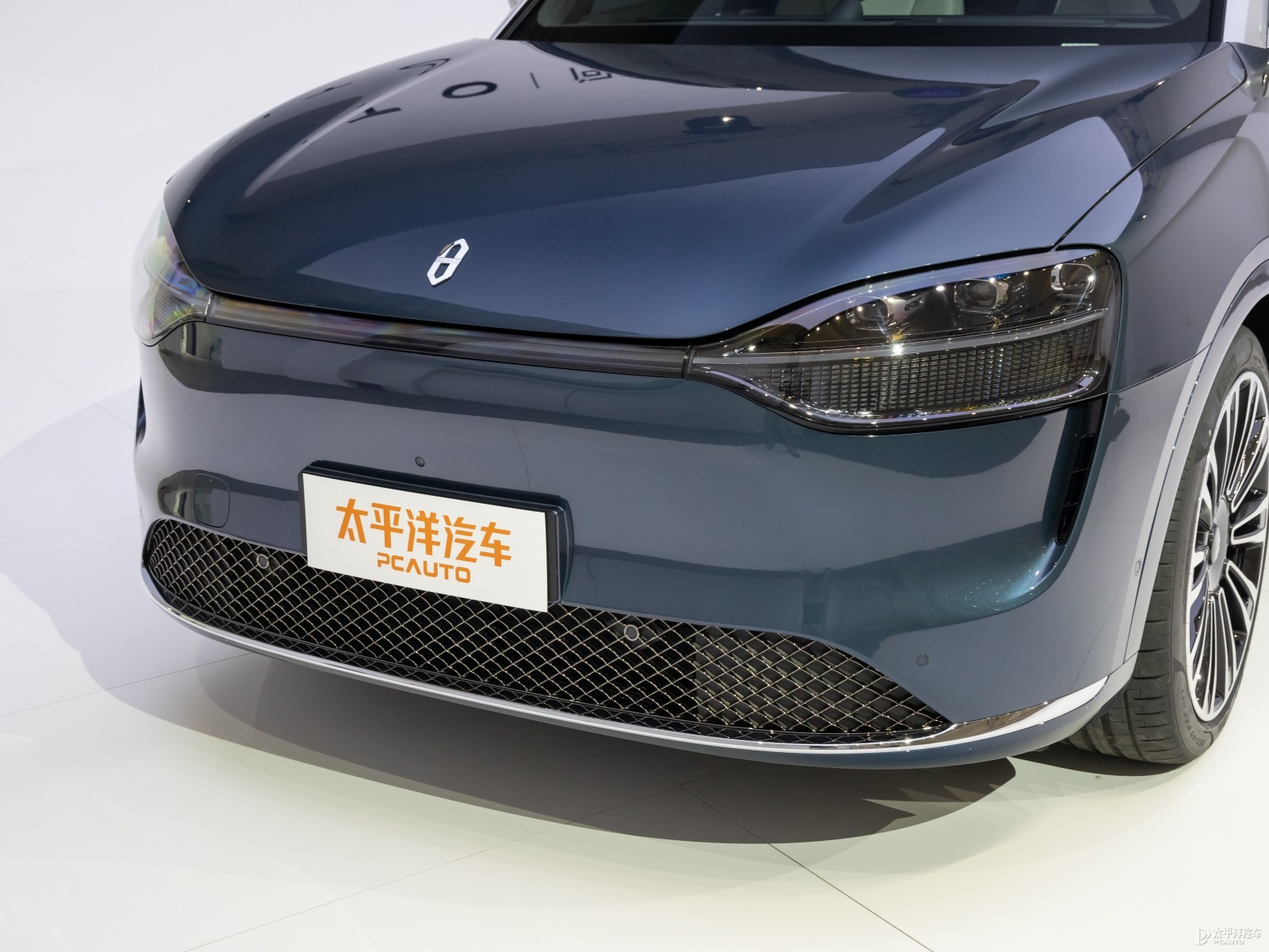AITO: (427, 240, 469, 286)
